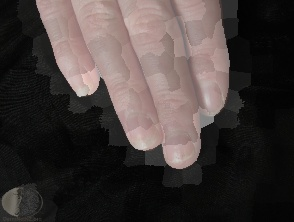Nail_psoriasis: (151, 117, 210, 176), (113, 102, 172, 159), (58, 62, 101, 103), (192, 72, 228, 120)
